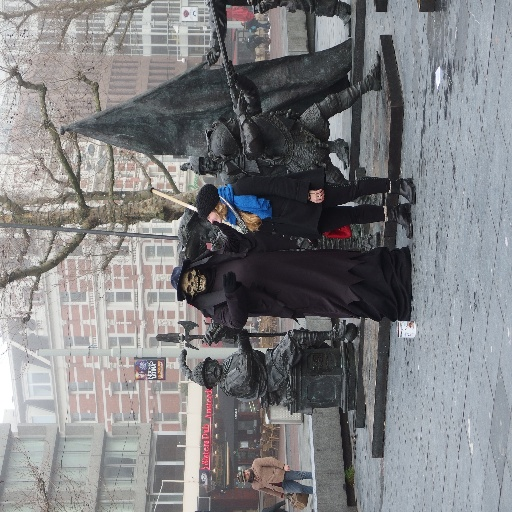hand: (231, 89, 247, 124), (221, 269, 238, 294), (221, 58, 236, 86), (250, 1, 274, 14), (199, 331, 219, 346), (204, 46, 219, 66), (309, 188, 325, 205), (235, 328, 250, 341), (282, 464, 289, 474), (282, 494, 289, 501)
